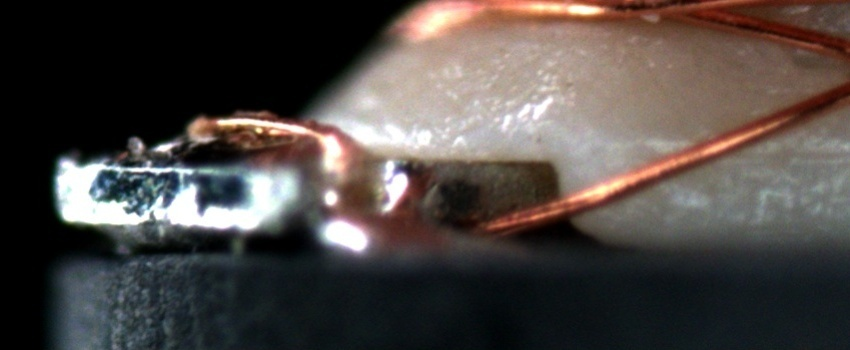DL: (658, 126, 849, 189)
TE: (174, 109, 367, 156)
